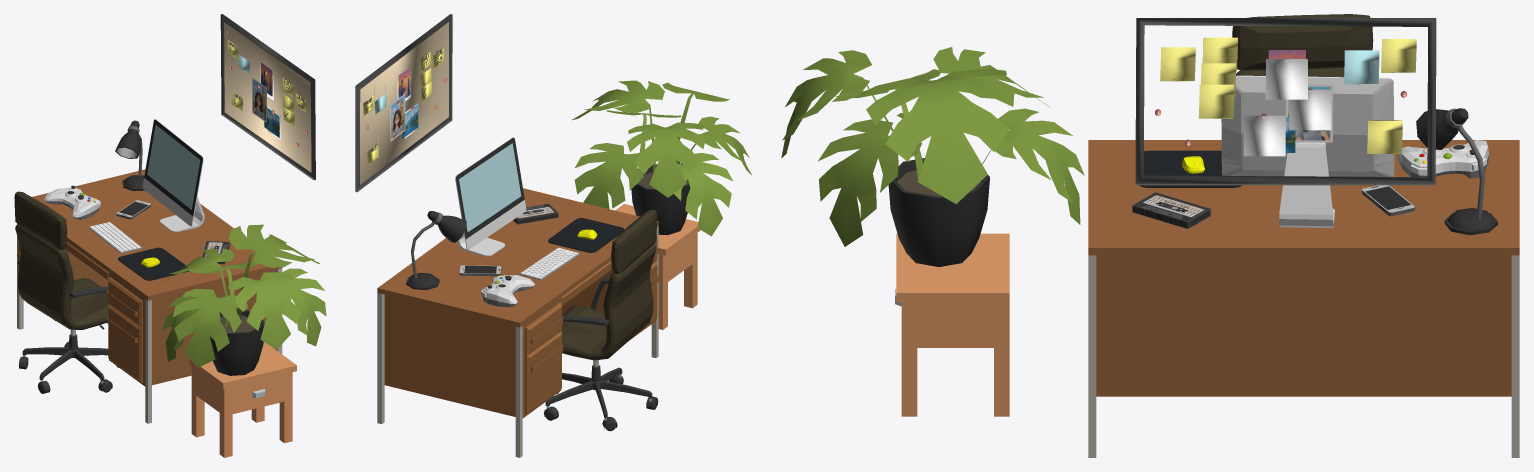
File: personal_site_with_portrait_v3.glb
3 renders of one model, left to right at view 1: azimuth 30°, elevation 25°; view 2: azimuth 150°, elevation 25°; view 3: azimuth 270°, elevation 25°, orthographic. The views are drawn at different scales.
Parts seen in each view (by area): view 1: Node.003, Houseplant-bfLOqIV5uP, Chair.003, Node, Cabinet Bed Drawer Tabl, Monitor.001|iMac|Dupli|, Mousepad, Xbox_Controller, Light Desk.001, Portrait_Photo, Phone; view 2: Node.003, Houseplant-bfLOqIV5uP, Chair.003, Node, Monitor.001|iMac|Dupli|, Cabinet Bed Drawer Tabl, Mousepad, Light Desk.001, Xbox_Controller, Portrait_Photo, a, Phone; view 3: Node.003, Houseplant-bfLOqIV5uP, Node, Cabinet Bed Drawer Tabl, Monitor.001|iMac|Dupli|, Chair.003, Light Desk.001, Xbox_Controller, Mousepad, a, Phone, Portrait_Photo.
Part boxes in pixels (left/top/right/bottom): Node.003: left=17, top=169, right=282, bottom=423; Houseplant-bfLOqIV5uP: left=162, top=224, right=326, bottom=375; Chair.003: left=14, top=191, right=118, bottom=393; Node: left=220, top=14, right=315, bottom=180; Cabinet Bed Drawer Tabl: left=189, top=342, right=296, bottom=457; Monitor.001|iMac|Dupli|: left=142, top=119, right=204, bottom=231; Mousepad: left=118, top=247, right=188, bottom=280; Xbox_Controller: left=44, top=185, right=100, bottom=219; Light Desk.001: left=115, top=120, right=144, bottom=190; Portrait_Photo: left=252, top=78, right=266, bottom=122; Phone: left=116, top=200, right=150, bottom=219; Node.003: left=377, top=188, right=658, bottom=457; Houseplant-bfLOqIV5uP: left=571, top=80, right=751, bottom=236; Chair.003: left=544, top=209, right=658, bottom=431; Node: left=355, top=14, right=452, bottom=192; Monitor.001|iMac|Dupli|: left=455, top=137, right=526, bottom=256; Cabinet Bed Drawer Tabl: left=615, top=204, right=700, bottom=329; Mousepad: left=548, top=218, right=624, bottom=252; Light Desk.001: left=406, top=211, right=466, bottom=290; Xbox_Controller: left=481, top=274, right=534, bottom=307; Portrait_Photo: left=390, top=93, right=405, bottom=141; a: left=513, top=203, right=558, bottom=224; Phone: left=459, top=265, right=501, bottom=276; Node.003: left=1088, top=140, right=1519, bottom=457; Houseplant-bfLOqIV5uP: left=781, top=47, right=1084, bottom=266; Node: left=1135, top=18, right=1436, bottom=185; Cabinet Bed Drawer Tabl: left=895, top=233, right=1009, bottom=416; Monitor.001|iMac|Dupli|: left=1221, top=75, right=1394, bottom=227; Chair.003: left=1232, top=14, right=1373, bottom=77; Light Desk.001: left=1416, top=108, right=1497, bottom=235; Xbox_Controller: left=1397, top=140, right=1488, bottom=178; Mousepad: left=1139, top=150, right=1241, bottom=187; a: left=1132, top=192, right=1210, bottom=228; Phone: left=1362, top=185, right=1414, bottom=216; Portrait_Photo: left=1285, top=84, right=1333, bottom=142.
Size of the model in its own units: 11.32 by 13.33 by 18.72.
Materials: 37 (7 with a texture image).
